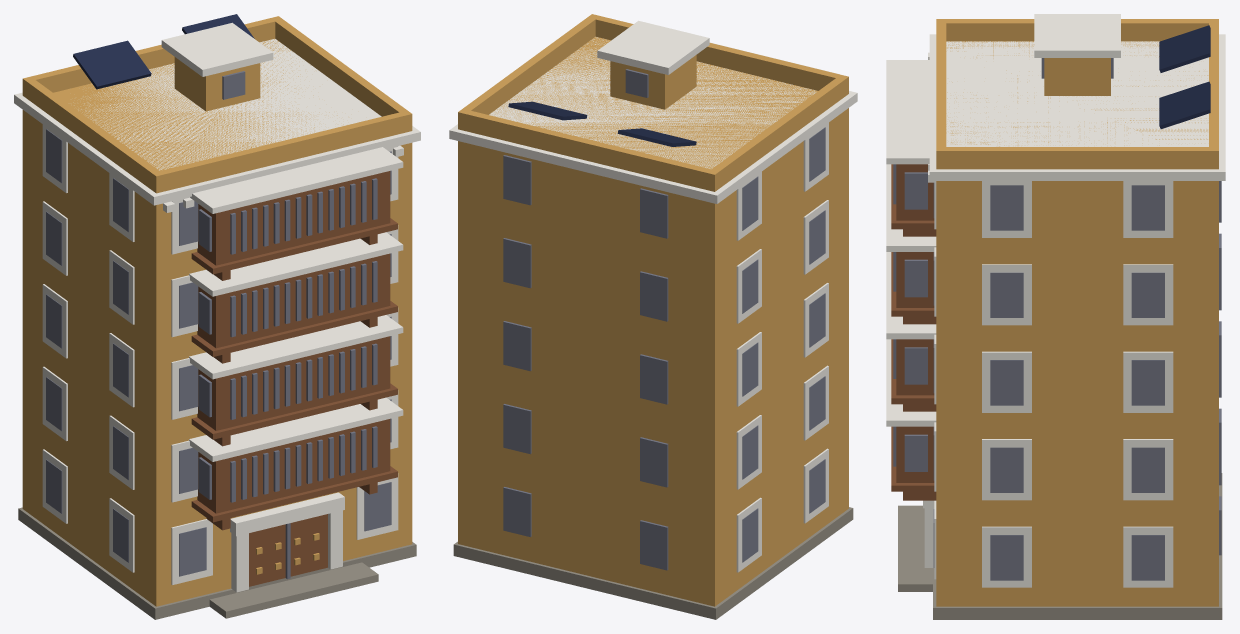
File: house-1x1-5f-quincha-a-solar.glb
3 views of the same model, side by side, from view 1: azimuth 30°, elevation 25°; view 2: azimuth 150°, elevation 25°; view 3: azimuth 270°, elevation 25° (orthographic). The views are drawn at different scales.
Visible parts, largest first — view 1: house-1x1-5f-quincha-a-solar; view 2: house-1x1-5f-quincha-a-solar; view 3: house-1x1-5f-quincha-a-solar.
Boxes of the visible parts, x1=… form: house-1x1-5f-quincha-a-solar: x1=14, y1=14, x2=420, y2=619; house-1x1-5f-quincha-a-solar: x1=449, y1=14, x2=857, y2=619; house-1x1-5f-quincha-a-solar: x1=886, y1=14, x2=1225, y2=619.
Bounding box in the file's own units: 0.98 × 1.73 × 1.02.
1 material, 1 textured.
